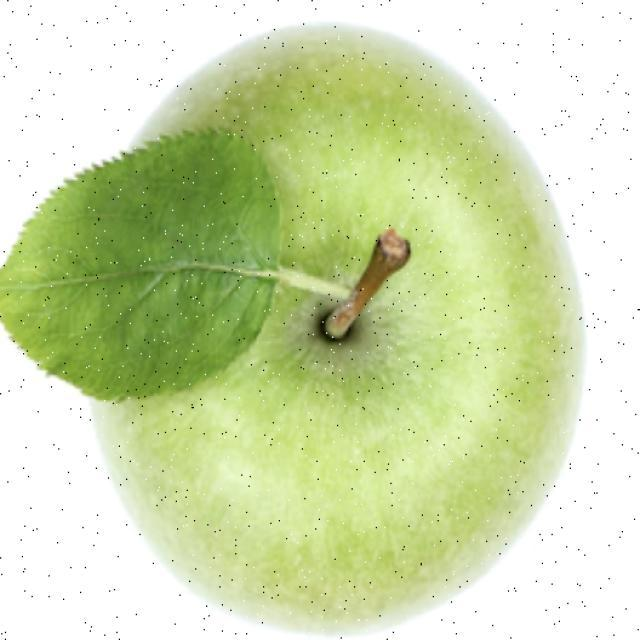Apple: (1, 20, 586, 637)
